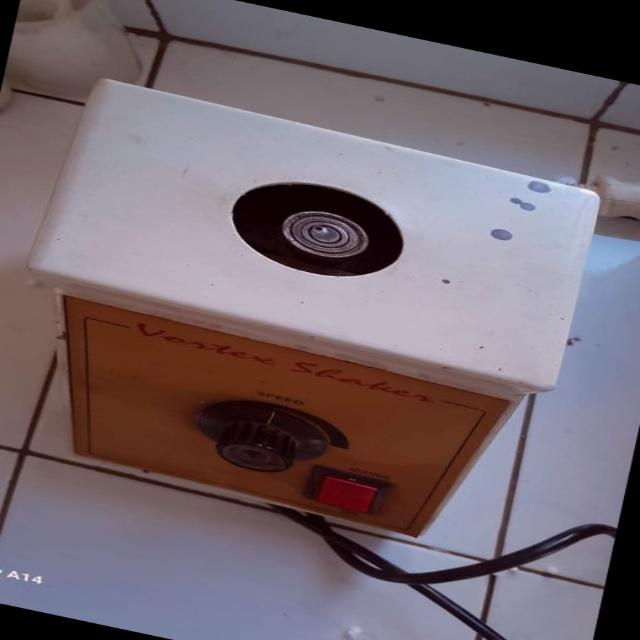Vortex: (3, 70, 600, 563)
